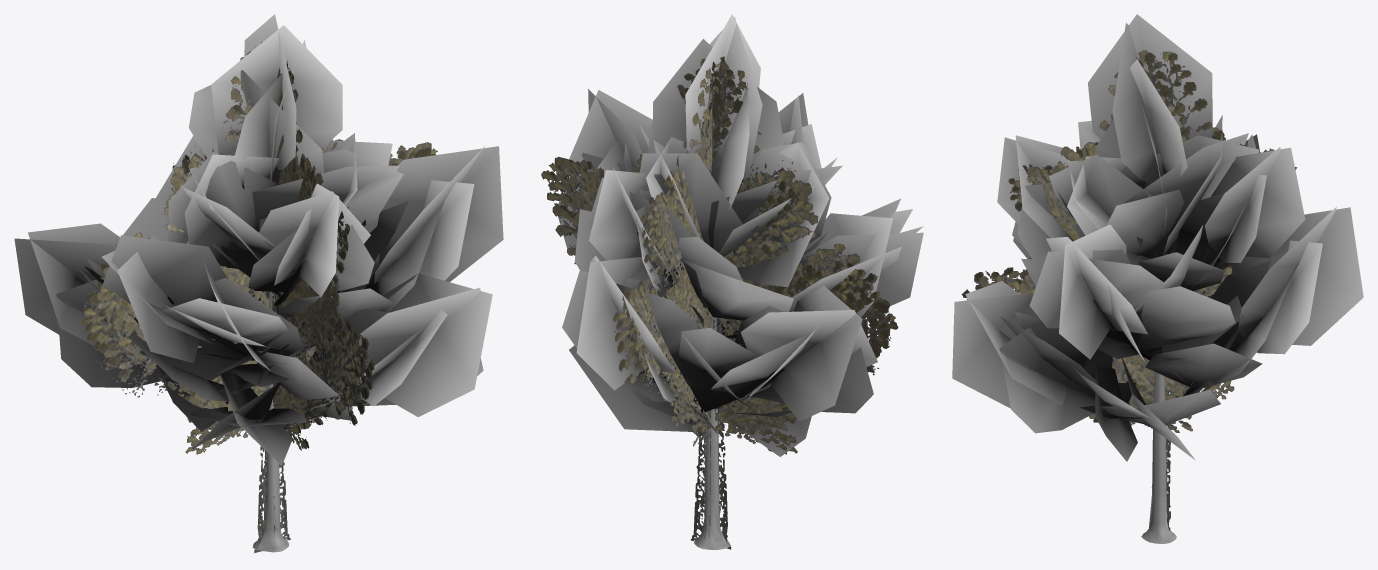
File: Oak_03.fbx
3 renders of one model, left to right at view 1: azimuth 30°, elevation 25°; view 2: azimuth 150°, elevation 25°; view 3: azimuth 270°, elevation 25°, orthographic. The views are drawn at different scales.
Visible parts, largest first — view 1: Oak_03_LOD0, Billboard_Oak_03; view 2: Oak_03_LOD0, Billboard_Oak_03; view 3: Oak_03_LOD0, Billboard_Oak_03.
Part boxes in pixels (x1=…): Oak_03_LOD0: x1=14, y1=14, x2=503, y2=552; Billboard_Oak_03: x1=81, y1=42, x2=437, y2=552; Oak_03_LOD0: x1=558, y1=14, x2=923, y2=549; Billboard_Oak_03: x1=541, y1=56, x2=898, y2=549; Oak_03_LOD0: x1=952, y1=14, x2=1363, y2=543; Billboard_Oak_03: x1=961, y1=50, x2=1297, y2=530.
Size of what is drawn, in the model's own units: 285 by 379 by 271.
